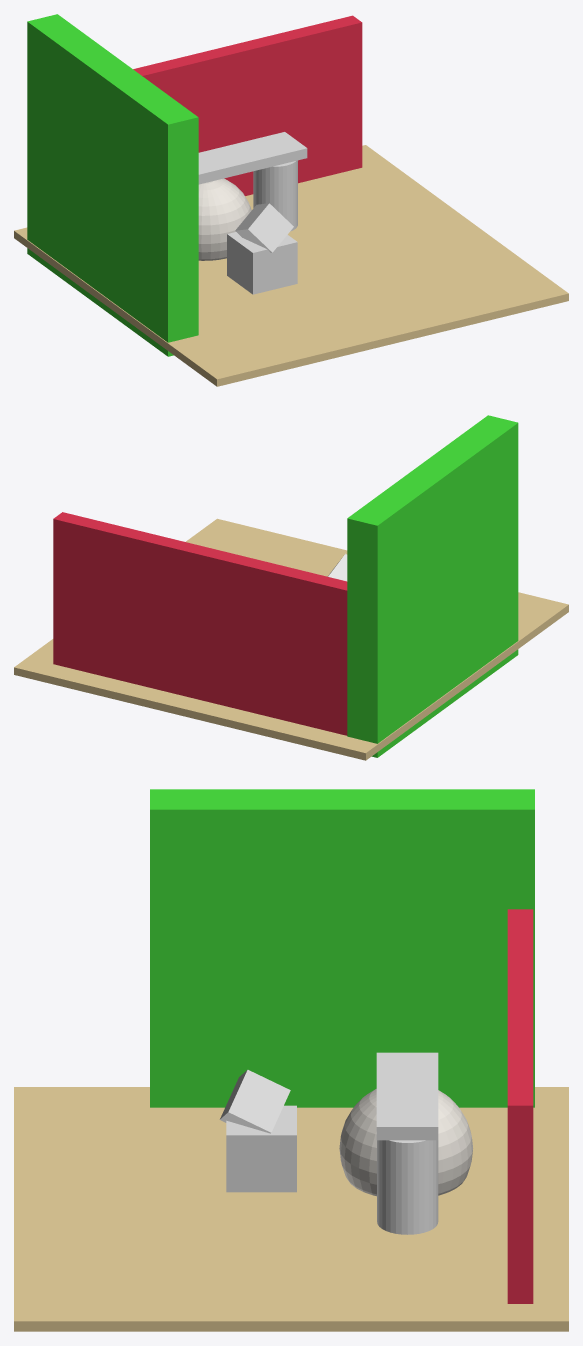
3 renders of one model, top to bottom at view 1: azimuth 30°, elevation 25°; view 2: azimuth 150°, elevation 25°; view 3: azimuth 270°, elevation 25°, orthographic. The views are drawn at different scales.
Parts seen in each view (by area): view 1: Cube, Cube.001, Cube.002, Cube.003, Cube.004, Sphere, Cylinder, Cube.005; view 2: Cube.002, Cube.001, Cube; view 3: Cube.001, Cube, Cube.002, Sphere, Cylinder, Cube.004, Cube.003, Cube.005.
Part boxes in pixels (x1,y1,x2,y2): Cube: (14, 145, 568, 386); Cube.001: (27, 14, 198, 356); Cube.002: (133, 15, 362, 195); Cube.003: (227, 232, 297, 294); Cube.004: (198, 132, 307, 184); Sphere: (198, 178, 251, 260); Cylinder: (253, 160, 297, 231); Cube.005: (235, 203, 293, 252); Cube.002: (53, 512, 347, 735); Cube.001: (347, 415, 518, 757); Cube: (14, 518, 568, 760); Cube.001: (150, 789, 534, 1107); Cube: (14, 1087, 568, 1331); Cube.002: (507, 909, 533, 1303); Sphere: (339, 1089, 472, 1196); Cylinder: (377, 1140, 438, 1234); Cube.004: (376, 1052, 438, 1140); Cube.003: (226, 1105, 296, 1192); Cube.005: (219, 1069, 290, 1133).
Bounding box in the file's own units: 830 × 549 × 830.
